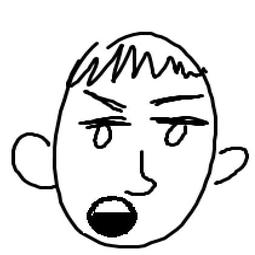empty_eye: (159, 116, 191, 149), (87, 118, 115, 152)
eye: (206, 144, 250, 190)
eyebrow: (148, 91, 207, 107)
frowning_eyebrow: (77, 88, 125, 112)
large_ear: (8, 126, 61, 196)
nose: (124, 147, 159, 197)
open_mouth: (87, 193, 141, 238)
